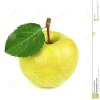Apple leaf: (2, 20, 47, 59)
